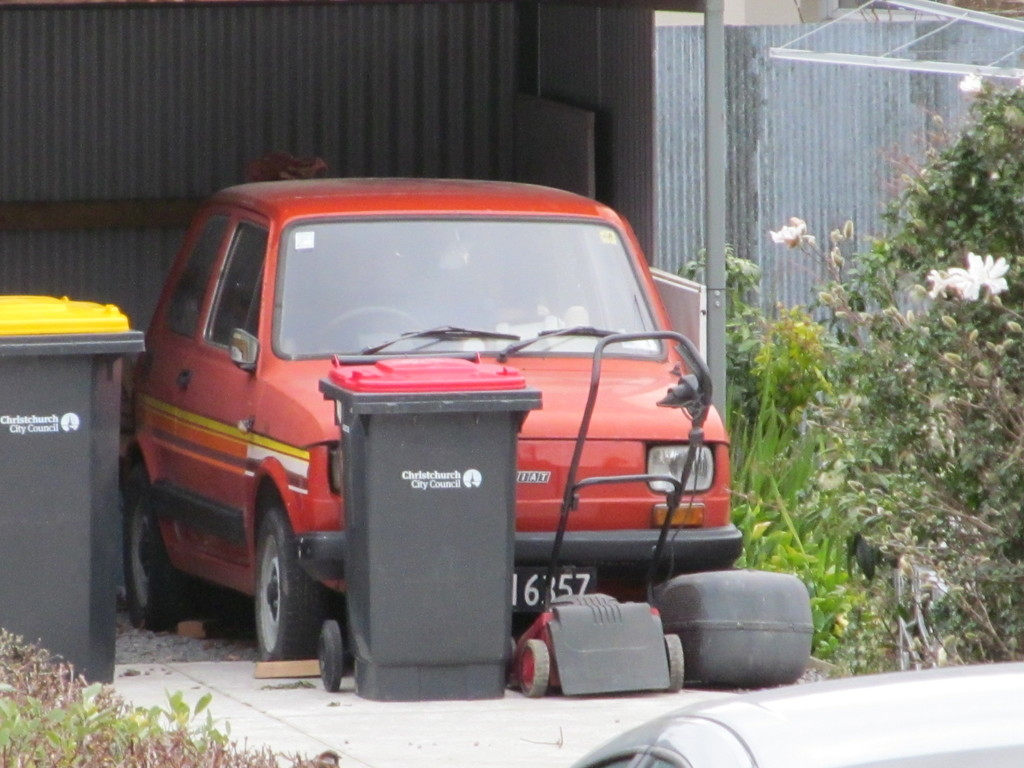Car: (116, 170, 739, 666)
